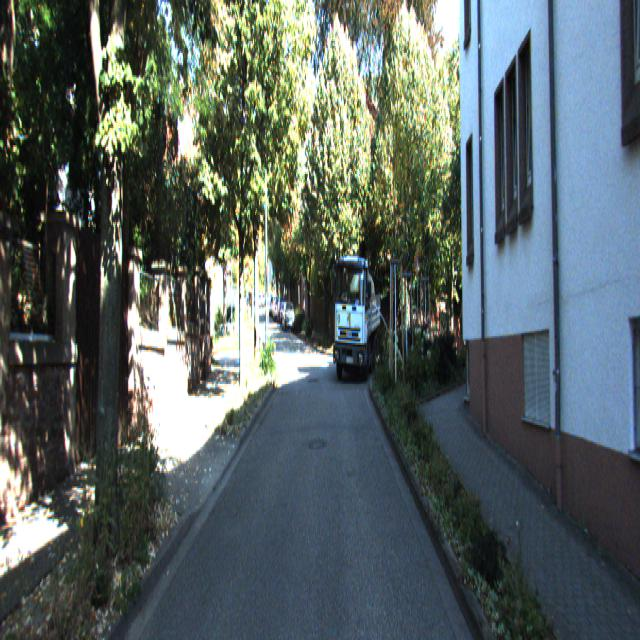Car: (332, 248, 382, 385), (283, 298, 295, 332)
